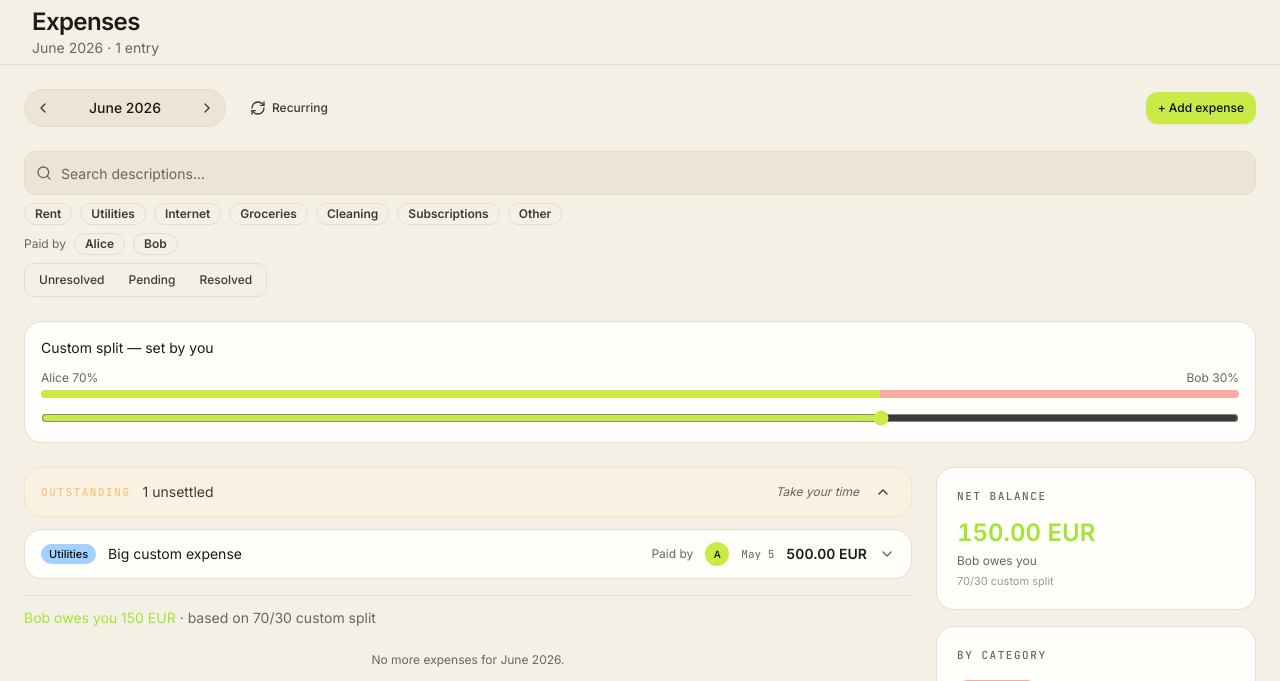
Test case: <ExpensesPage /> custom split is owner-relative › owner sees their stored share (70% = €350)
Click the text "Big custom expense": click(175, 554) [108,545,242,562]
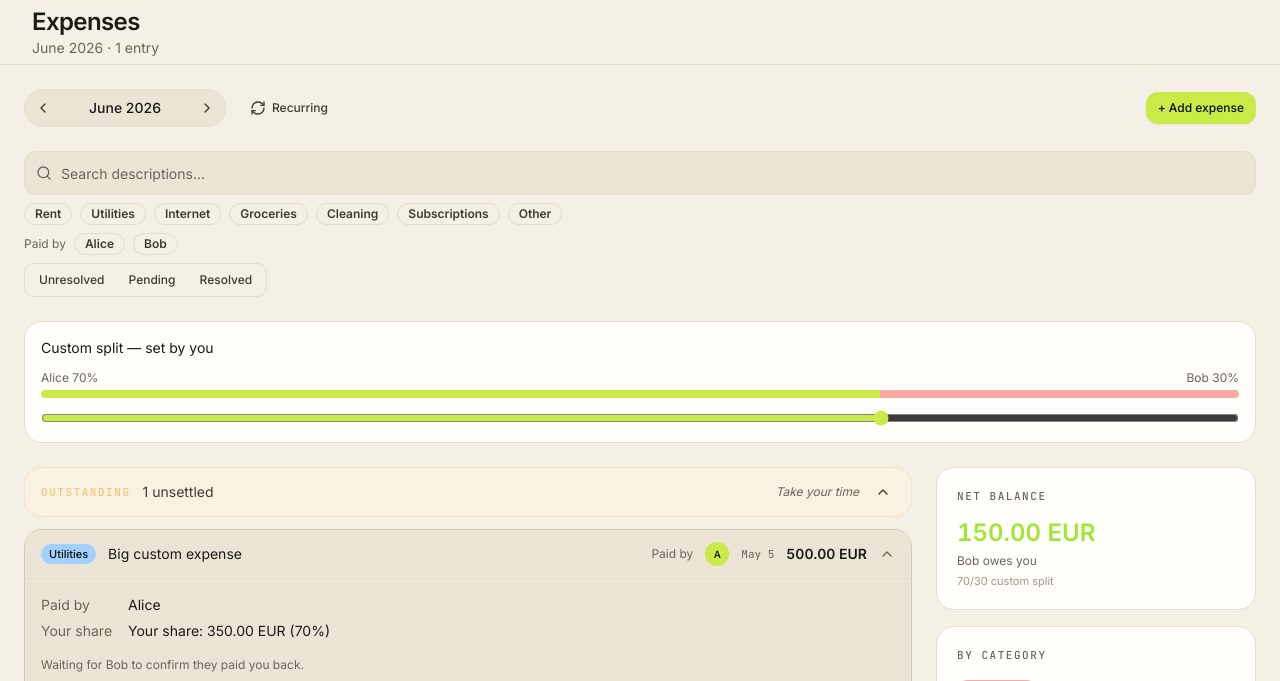
Expected: the text "Your share: 350.00 EUR (70%)" is shown, [128,622,330,639]
